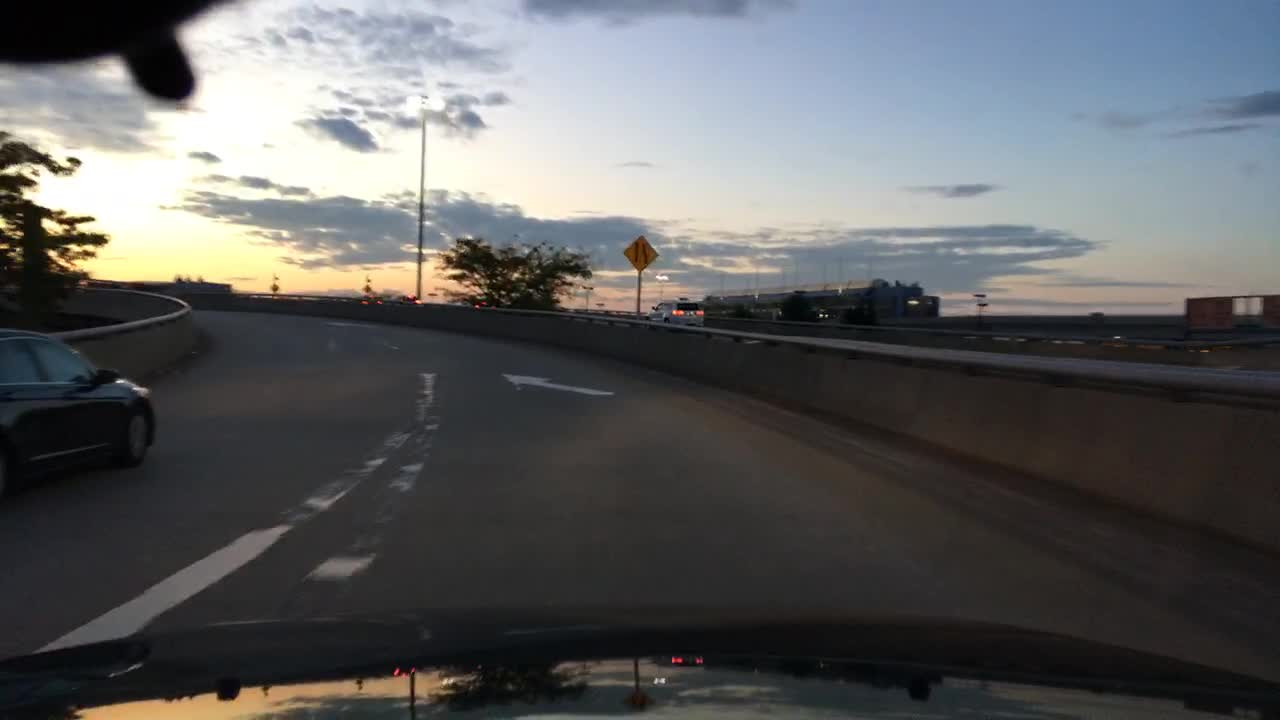car: (0, 326, 160, 483), (644, 298, 704, 324), (390, 292, 423, 305), (472, 298, 495, 310), (359, 295, 382, 306)
traffic sign: (1183, 295, 1229, 328), (622, 235, 660, 272), (1262, 295, 1278, 323), (270, 283, 279, 291), (362, 285, 373, 291)
